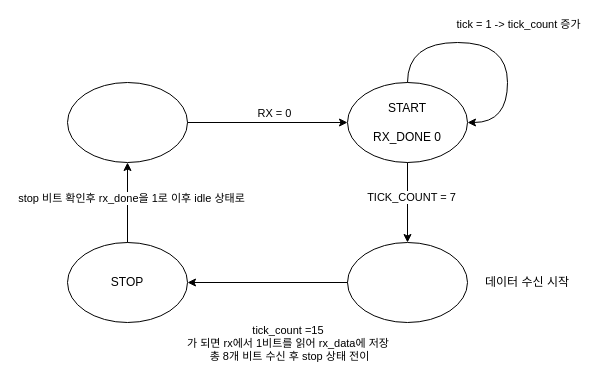
Some shapes in this 597 by 380 pixel diagram are drawn without their labels. The shapes that lost their labels are listed below. From the top down, each one's centre as x and y in pixels, then its label:
point (127, 122): IDLE
point (407, 282): DATA
